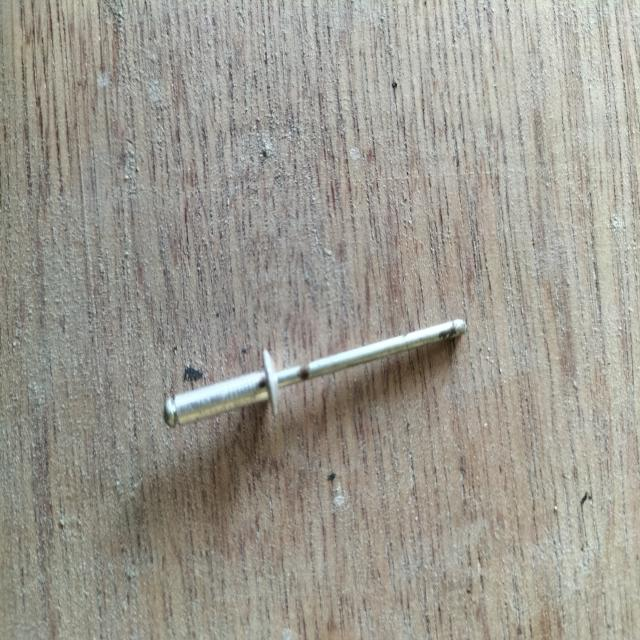rivet: (165, 319, 467, 430)
